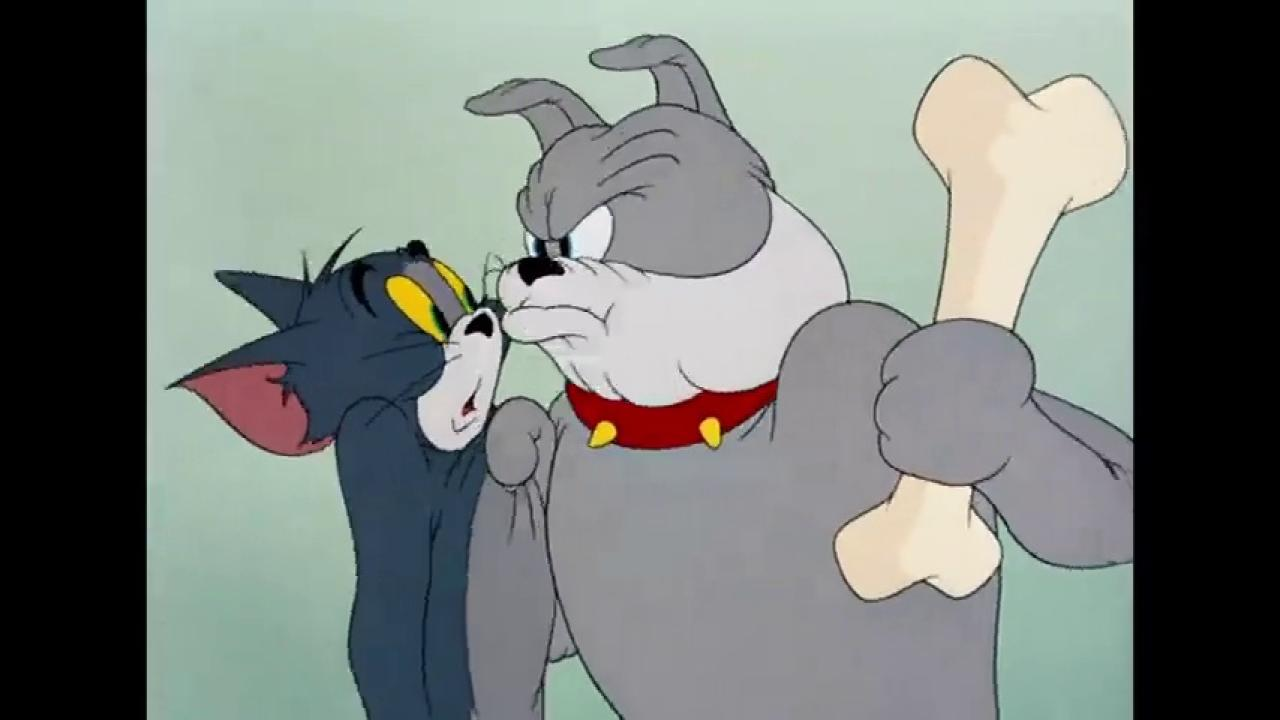Tom: (166, 238, 560, 720)
